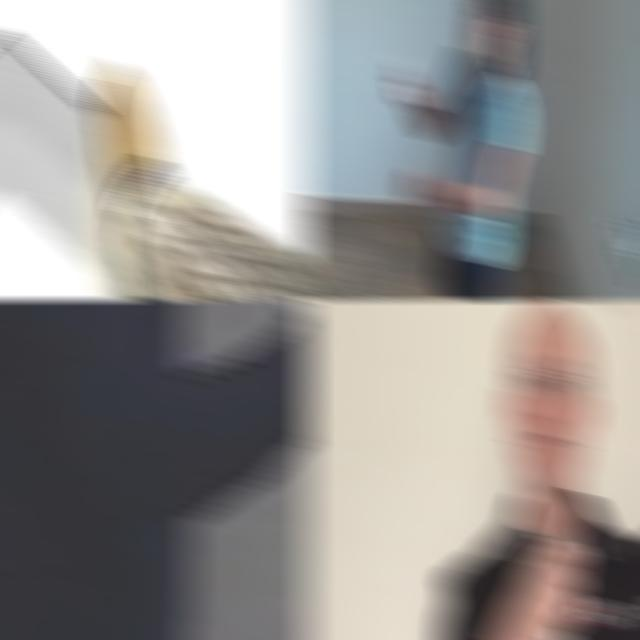Knife_Handle: (528, 524, 588, 640), (390, 46, 428, 112), (389, 47, 424, 117)
